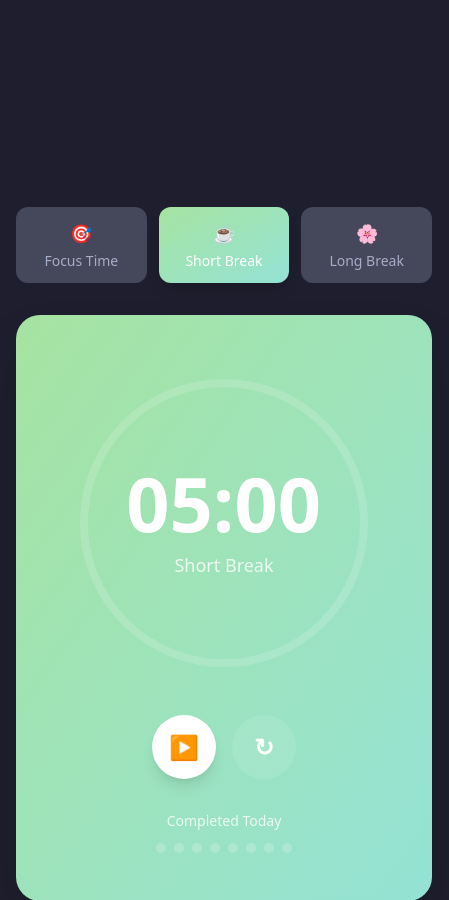
Test: PomodoroTimer › Integration with Active Task › maintains task display throughout timer session
// Start timer
Click the button "▶".
click(184, 746)  # box [152,714,216,778]
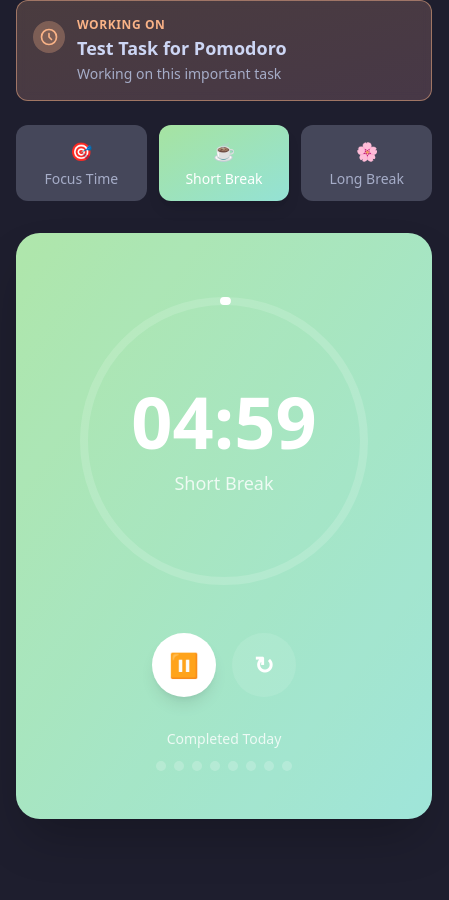
Expected: the heading "Test Task for Pomodoro" is shown, [77,36,287,60]
